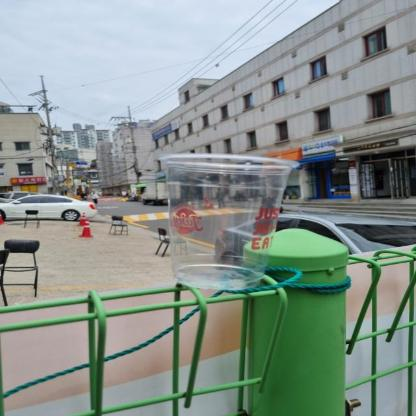Plastic Cup: (151, 147, 309, 299)
